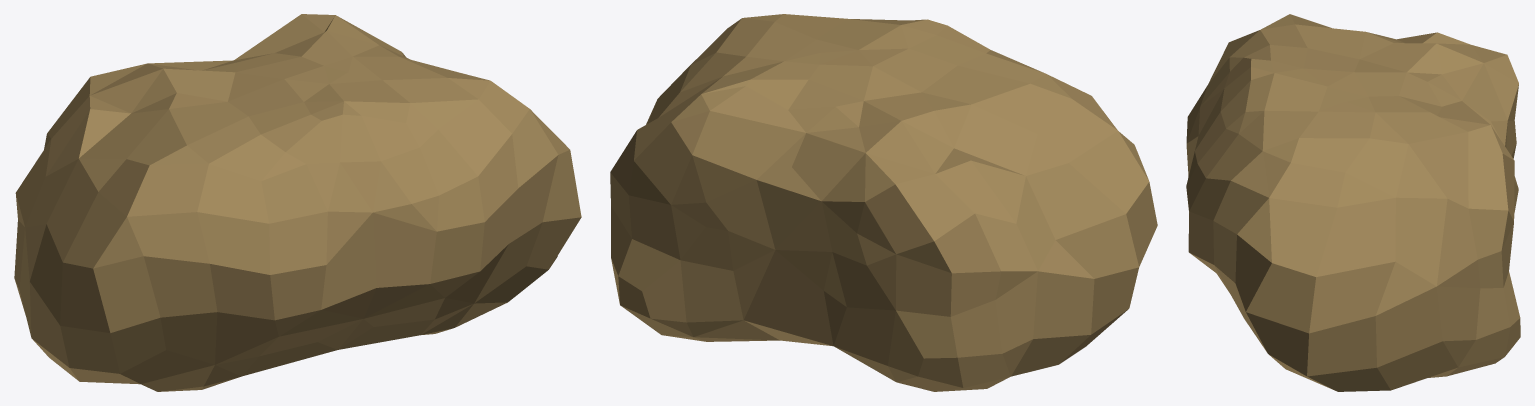
The model's file is tas1.fbx.
The picture shows the model from 3 angles, left to right: view 1: azimuth 30°, elevation 25°; view 2: azimuth 150°, elevation 25°; view 3: azimuth 270°, elevation 25°; orthographic projection. The views are drawn at different scales.
Parts seen in each view (by area): view 1: Cube; view 2: Cube; view 3: Cube.
Part boxes in pixels (left/top/right/bottom): Cube: left=14, top=14, right=581, bottom=391; Cube: left=610, top=14, right=1157, bottom=391; Cube: left=1186, top=14, right=1520, bottom=391.
Bounding box in the file's own units: 803 × 424 × 515.
